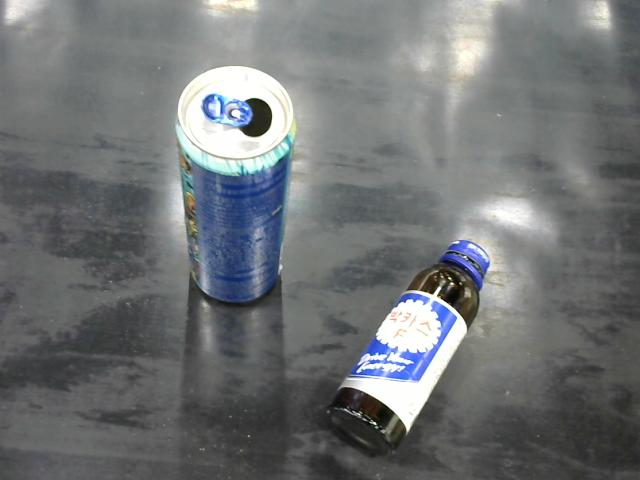can: (174, 65, 297, 304)
glass: (324, 238, 492, 458)
